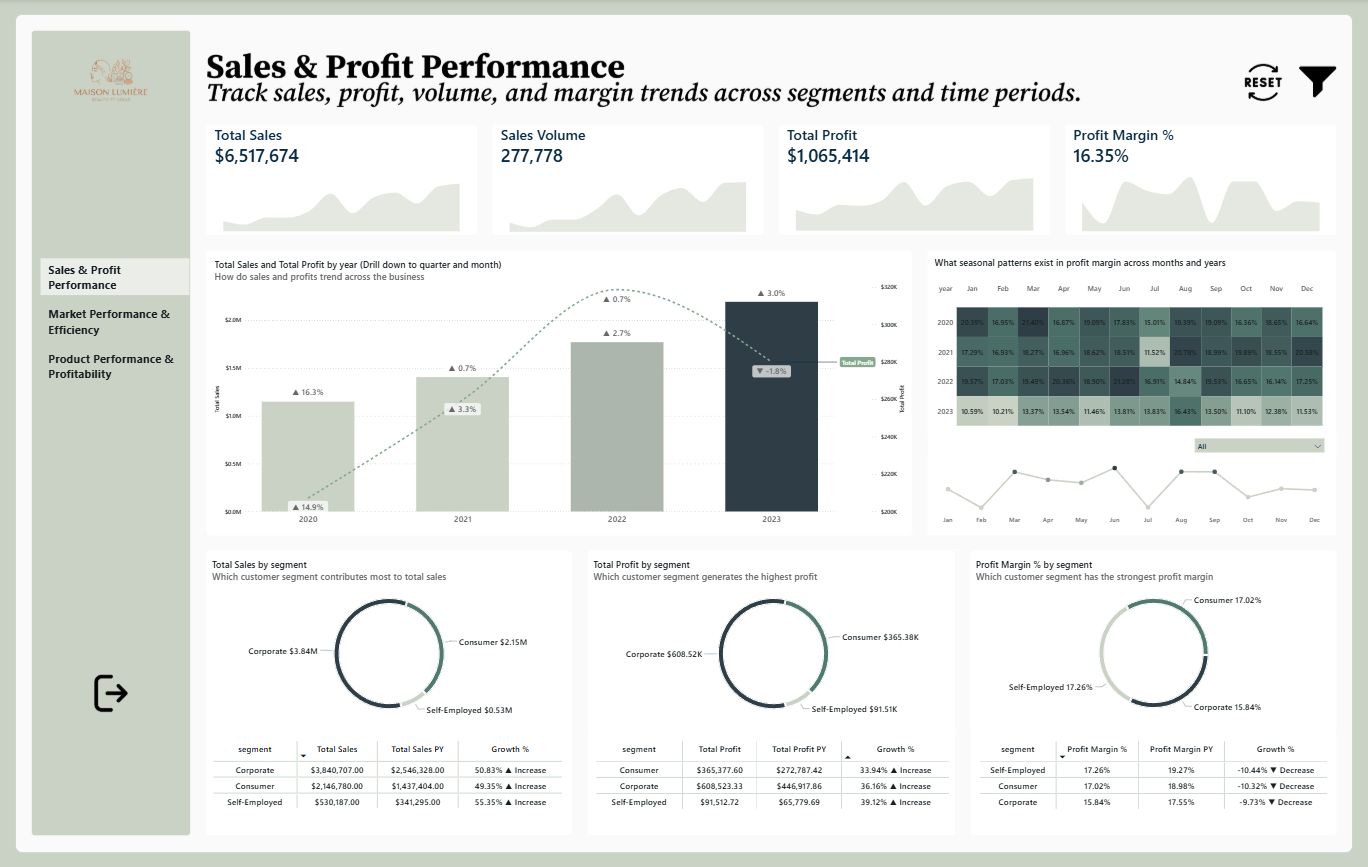

This screenshot's page, from the dashboard's own definition file:
{"tool":"powerbi","page":{"name":"Sales & Profit Performance","canvas":[2588,1643],"ordinal":0},"visuals":[{"type":"lineClusteredColumnComboChart","title":"Total Sales and Total Profit by year (Drill down to quarter and month)","fields":{"Y2":["Calculated Measures.Total Profit"],"Y":["Calculated Measures.Total Sales"],"Category":["DimDate.year","DimDate.quarter","DimDate.Month Short"]},"box":[389.3,474.5,1340.7,540.2],"z":0},{"type":"pivotTable","title":"What seasonal patterns exist in profit margin across months and years","fields":{"Rows":["DimDate.year"],"Values":["Calculated Measures.Profit Margin %"],"Columns":["DimDate.Month Short"]},"box":[1751.7,474.6,775.2,350.3],"z":1000},{"type":"donutChart","fields":{"Category":["DimCustomer.segment"],"Y":["Calculated Measures.Total Sales"]},"box":[390.2,1042.8,690.5,345.2],"z":2000},{"type":"donutChart","fields":{"Category":["DimCustomer.segment"],"Y":["Calculated Measures.Total Profit"]},"box":[1111.4,1042.8,702.3,345.2],"z":3000},{"type":"donutChart","fields":{"Category":["DimCustomer.segment"],"Y":["Calculated Measures.Profit Margin %"]},"box":[1836.2,1043.6,693.2,342.9],"z":4000},{"type":"tableEx","fields":{"Values":["DimCustomer.segment","Calculated Measures.Total Sales","YOY & MOM.Total Sales PY","YOY & MOM.Total Sales Growth % & Indicator"]},"box":[387.8,1388.1,692.9,191.5],"z":5000},{"type":"tableEx","fields":{"Values":["DimCustomer.segment","Calculated Measures.Total Profit","YOY & MOM.Total Profit PY","YOY & MOM.Total Profit Growth % & Indicator"]},"box":[1111.4,1388.1,702.3,191.5],"z":6000},{"type":"tableEx","fields":{"Values":["DimCustomer.segment","Calculated Measures.Profit Margin %","YOY & MOM.Profit Margin PY","YOY & MOM.Profit Margin Growth % & Indicator"]},"box":[1837.4,1388.1,690.5,191.5],"z":7000},{"type":"lineChart","fields":{"Category":["DimDate.Month Short"],"Y":["Calculated Measures.Profit Margin %"]},"box":[1753.3,868.3,775,146.7],"z":8000},{"type":"slicer","fields":{"Values":["DimDate.year"]},"box":[2238.3,825,290,43.3],"z":9000},{"type":"areaChart","title":"Total Sales","fields":{"Category":["DimDate.Month Short"],"Y":["Calculated Measures.Total Sales"]},"box":[390.2,236.5,510.8,208.1],"z":10000},{"type":"areaChart","title":"Sales Volume","fields":{"Category":["DimDate.Month Short"],"Y":["Calculated Measures.Sales Volume"]},"box":[931.9,236,511,209.3],"z":11000},{"type":"areaChart","title":"Total Profit","fields":{"Category":["DimDate.Month Short"],"Y":["Calculated Measures.Total Profit"]},"box":[1473.2,236.5,513.1,208.1],"z":12000},{"type":"areaChart","title":"Profit Margin %","fields":{"Category":["DimDate.Month Short"],"Y":["Calculated Measures.Profit Margin %"]},"box":[2014.7,236.5,513.1,208.1],"z":13000},{"type":"actionButton","title":"Reset","box":[2337.5,115,100,85],"z":13500},{"type":"actionButton","title":"Slicer button","box":[2443.3,116.7,100,83.3],"z":15750},{"type":"actionButton","title":"Back","box":[155,1270,100,85],"z":18500},{"type":"pageNavigator","box":[61.5,475.3,298,269.6],"z":19000}]}

Visuals, with their boxes in screenshot pixels (x1, y1, x2, y2), scaled from the page's 2588x1643 canvas onto the 1368x867 screenshot:
"Total Sales and Total Profit by year (Drill down to quarter and month)" lineClusteredColumnComboChart: box(206, 250, 914, 535)
"What seasonal patterns exist in profit margin across months and years" pivotTable: box(926, 250, 1336, 435)
donutChart - DimCustomer.segment x Calculated Measures.Total Sales: box(206, 550, 571, 732)
donutChart - DimCustomer.segment x Calculated Measures.Total Profit: box(587, 550, 959, 732)
donutChart - DimCustomer.segment x Calculated Measures.Profit Margin %: box(971, 551, 1337, 732)
tableEx - DimCustomer.segment x Calculated Measures.Total Sales: box(205, 732, 571, 834)
tableEx - DimCustomer.segment x Calculated Measures.Total Profit: box(587, 732, 959, 834)
tableEx - DimCustomer.segment x Calculated Measures.Profit Margin %: box(971, 732, 1336, 834)
lineChart - DimDate.Month Short x Calculated Measures.Profit Margin %: box(927, 458, 1336, 536)
slicer - DimDate.year: box(1183, 435, 1336, 458)
"Total Sales" areaChart: box(206, 125, 476, 235)
"Sales Volume" areaChart: box(493, 125, 763, 235)
"Total Profit" areaChart: box(779, 125, 1050, 235)
"Profit Margin %" areaChart: box(1065, 125, 1336, 235)
"Reset" actionButton: box(1236, 61, 1288, 106)
"Slicer button" actionButton: box(1292, 62, 1344, 106)
"Back" actionButton: box(82, 670, 135, 715)
pageNavigator: box(33, 251, 190, 393)
